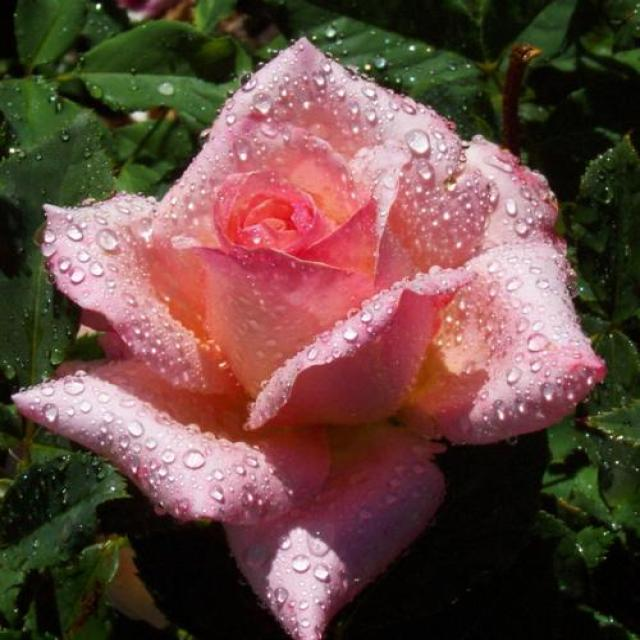rose: (43, 37, 603, 601)
